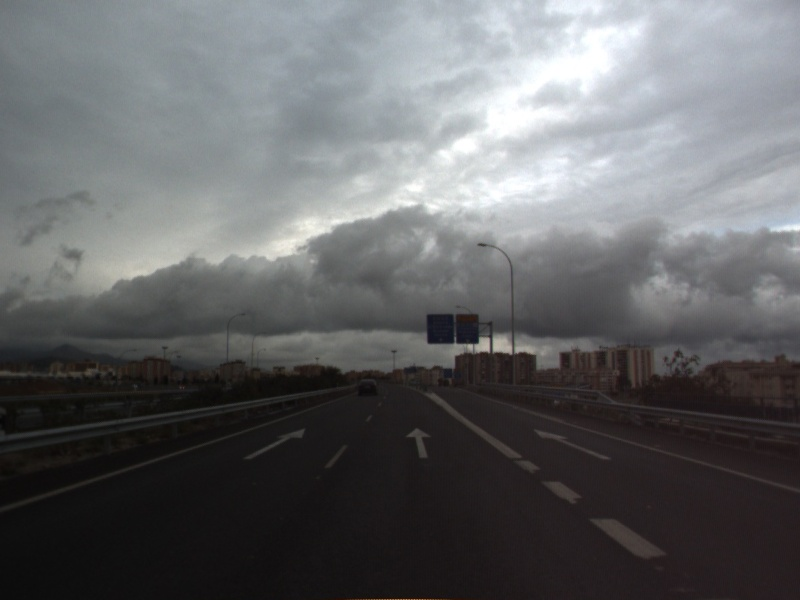STRAIGHT: (532, 426, 614, 462), (241, 426, 308, 462), (404, 425, 435, 460)
